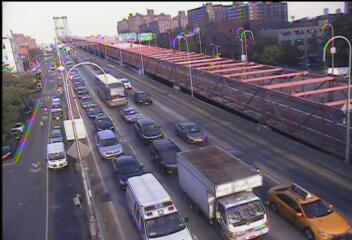neg: (68, 190, 84, 210), (19, 100, 29, 114)
